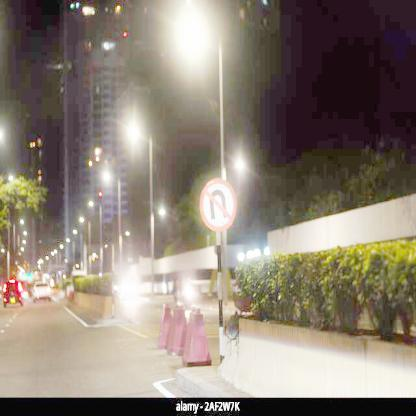No U-turn: (202, 175, 240, 232)
